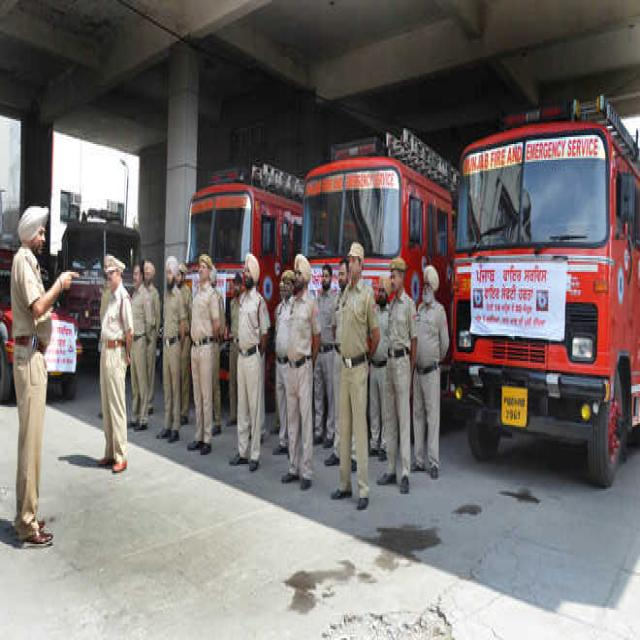emergency: (451, 99, 640, 487), (302, 128, 457, 317), (186, 165, 303, 314)
